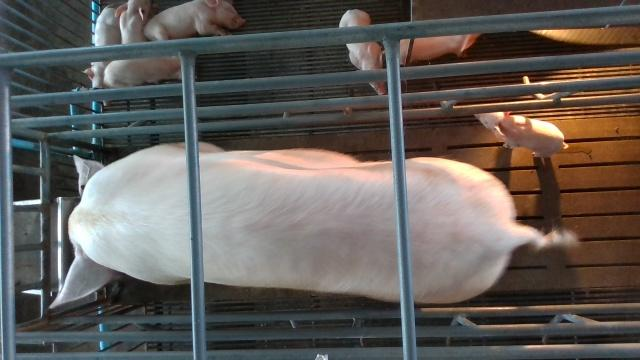piglet: (474, 112, 566, 157), (84, 5, 124, 107), (144, 1, 245, 41), (340, 9, 386, 94), (103, 56, 182, 88), (400, 34, 481, 65), (115, 0, 150, 43)
sow-stand-feed: (47, 140, 582, 307)
